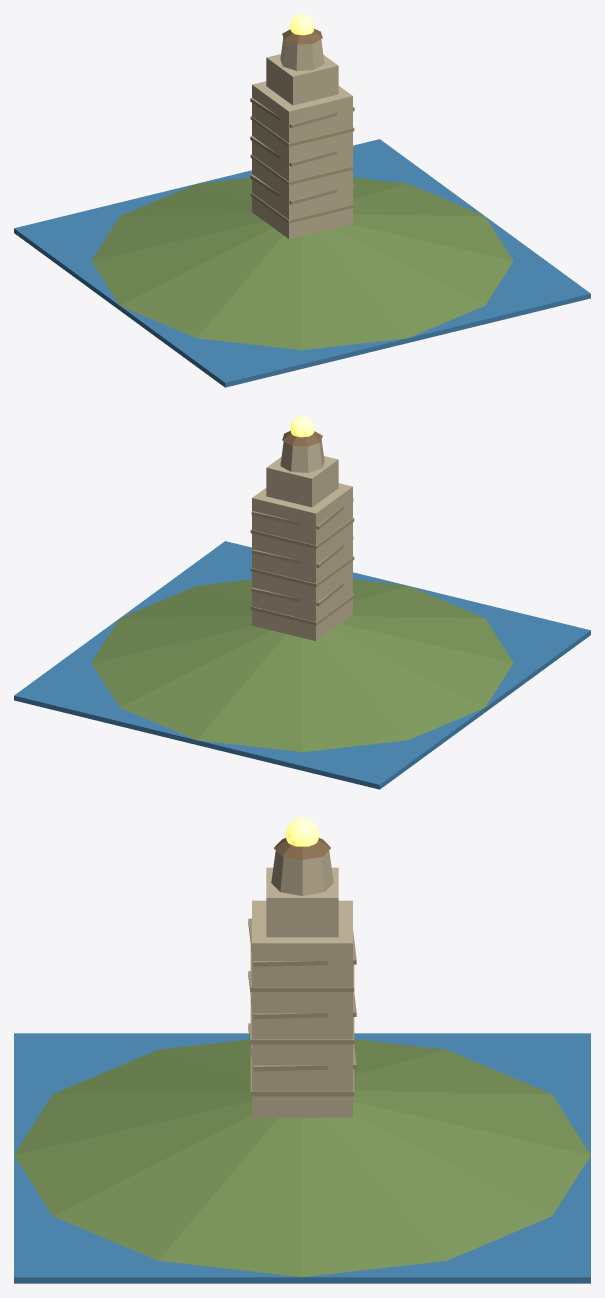
File: tower-of-hercules.glb
The picture shows the model from 3 angles, top to bottom: view 1: azimuth 30°, elevation 25°; view 2: azimuth 150°, elevation 25°; view 3: azimuth 270°, elevation 25°; orthographic projection. The views are drawn at different scales.
Parts seen in each view (by area): view 1: tower-of-hercules; view 2: tower-of-hercules; view 3: tower-of-hercules.
Boxes of the visible parts, bbox=[...] form: tower-of-hercules: bbox=[14, 14, 590, 387]; tower-of-hercules: bbox=[14, 416, 590, 789]; tower-of-hercules: bbox=[14, 818, 590, 1283].
Bounding box in the file's own units: 1.53 × 1 × 1.53.
